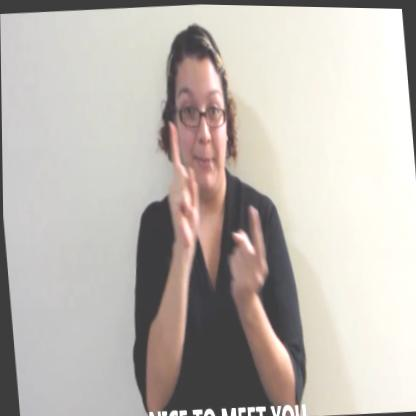NiceToMeetYou: (160, 106, 273, 318)
